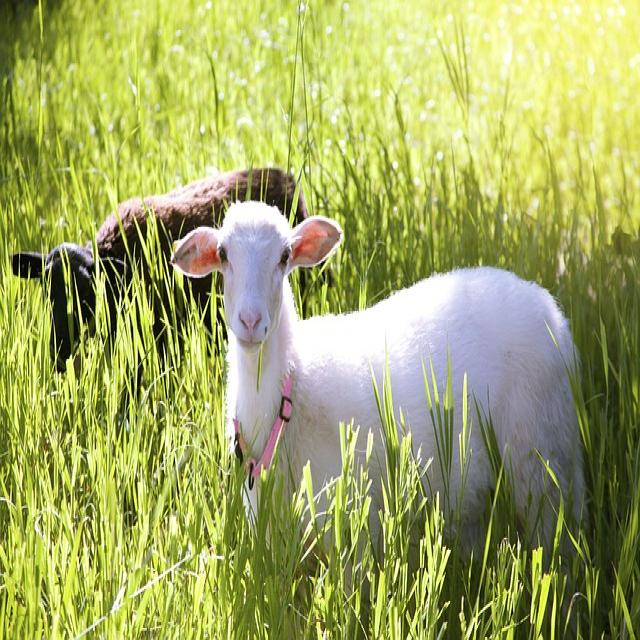goat: (170, 201, 589, 553), (47, 168, 307, 359)
